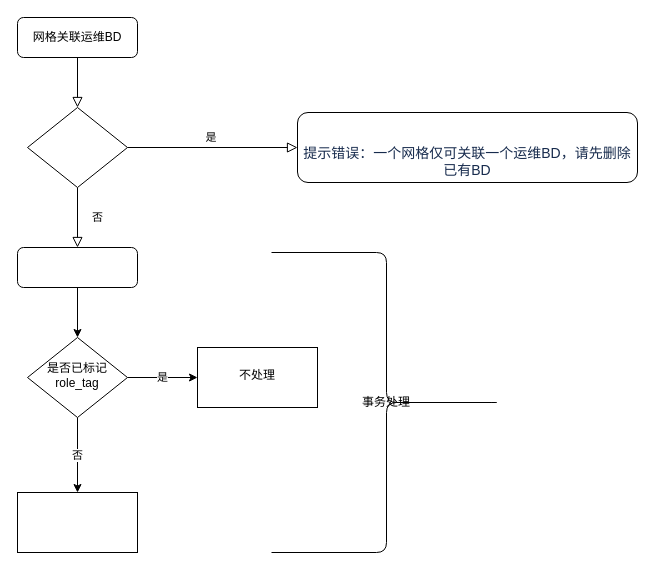
Image size: 655x570. Some labels were removed from this diagram. Here are the shapes that lost their labels. From the top down, the centre of each, then its label:
At [77,147]: "网格是否已关联过运维BD".
At [77,267]: "保存网格与运维BD关联".
At [77,522]: "增加运维BD的role_tag".
